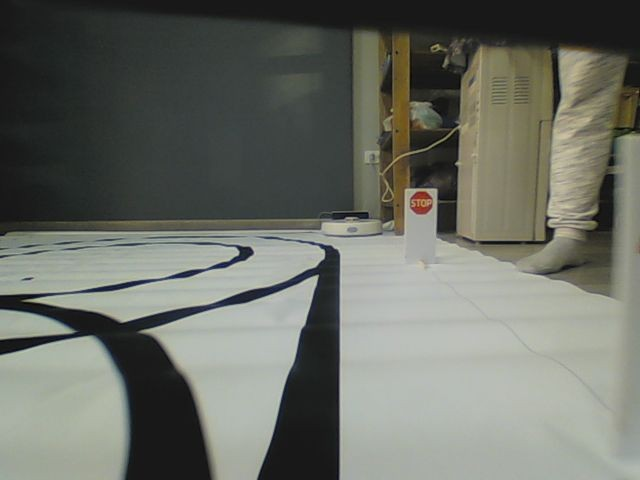Stop: (409, 191, 433, 215)
